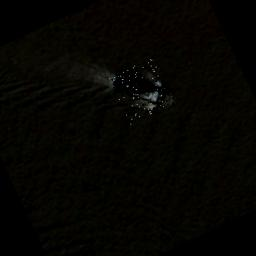boat: (108, 56, 176, 124)
